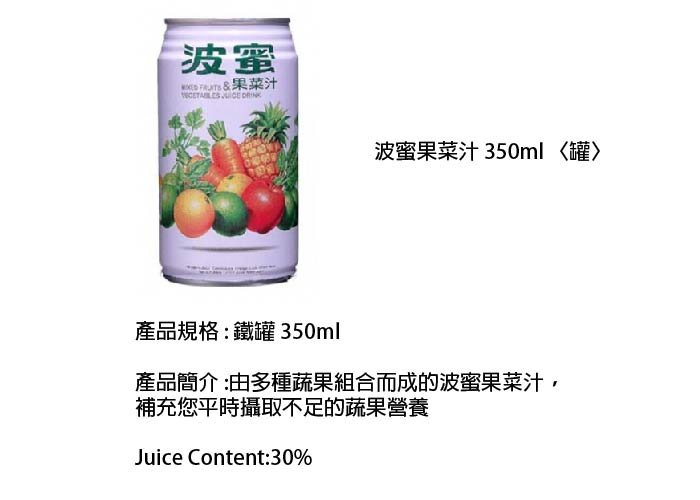vegetables juice: (163, 35, 302, 290)
